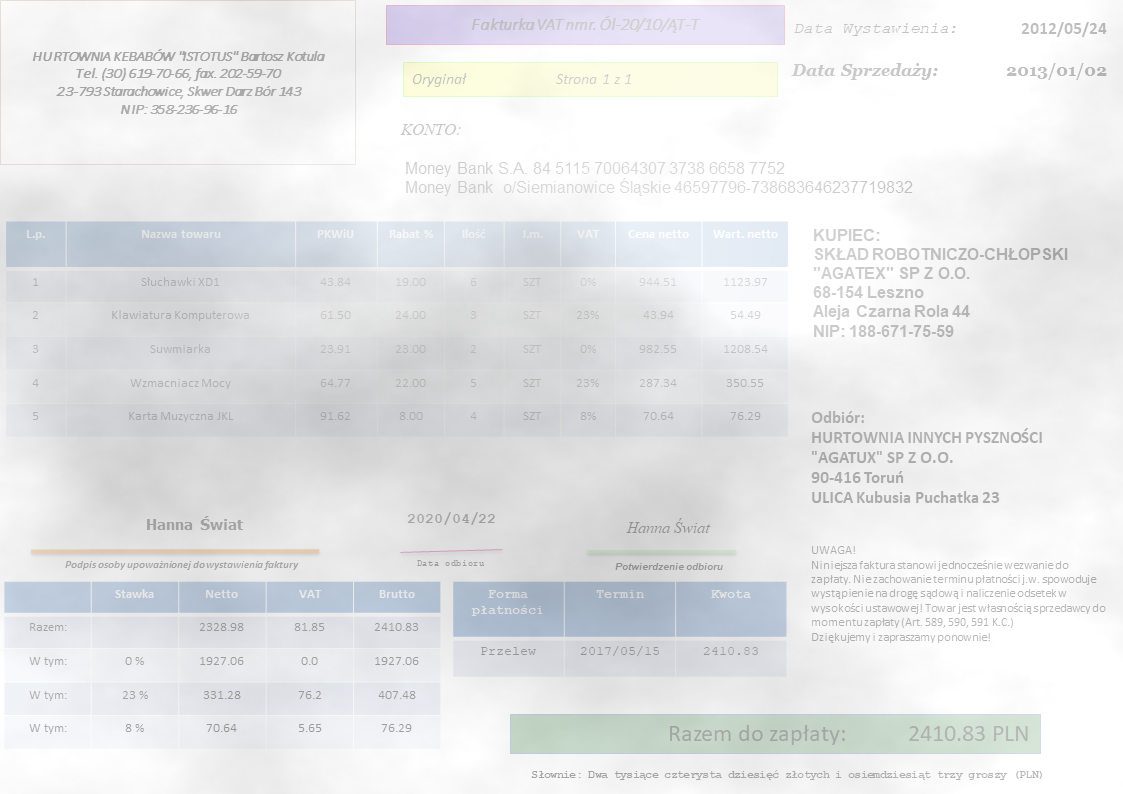Table: (4, 219, 791, 439), (1, 578, 444, 751), (451, 579, 787, 679)
TextBox: (807, 540, 1109, 646), (809, 223, 1070, 341), (808, 406, 1045, 508), (402, 154, 916, 198), (29, 47, 328, 119), (665, 718, 1032, 747), (529, 765, 1045, 785), (408, 68, 635, 91), (466, 14, 705, 34), (790, 59, 941, 85), (62, 556, 304, 572), (790, 20, 959, 39), (1005, 60, 1113, 83), (141, 513, 247, 534), (403, 507, 499, 530), (1017, 18, 1111, 40), (624, 516, 714, 537), (610, 559, 726, 574), (397, 117, 464, 139), (414, 555, 487, 569)
